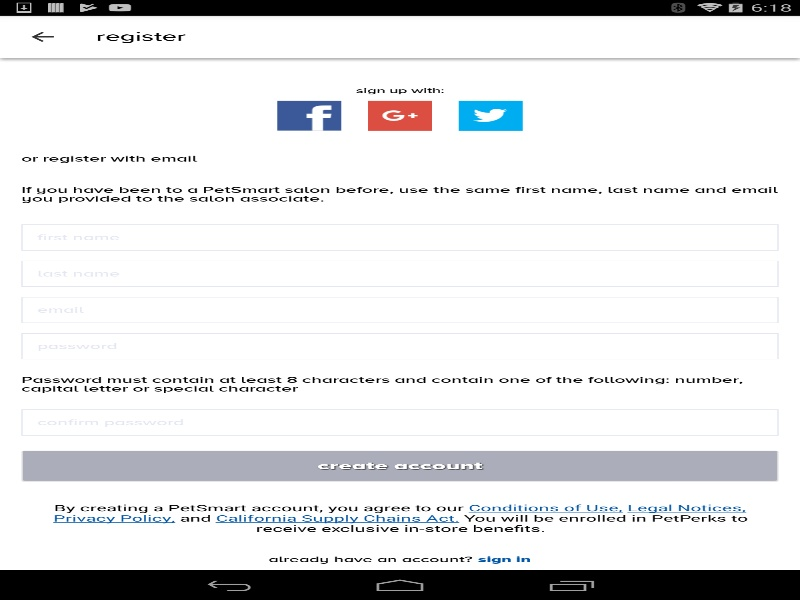Input: (21, 296, 778, 323), (21, 224, 778, 250), (21, 260, 778, 286), (21, 333, 778, 359), (21, 409, 778, 435)
